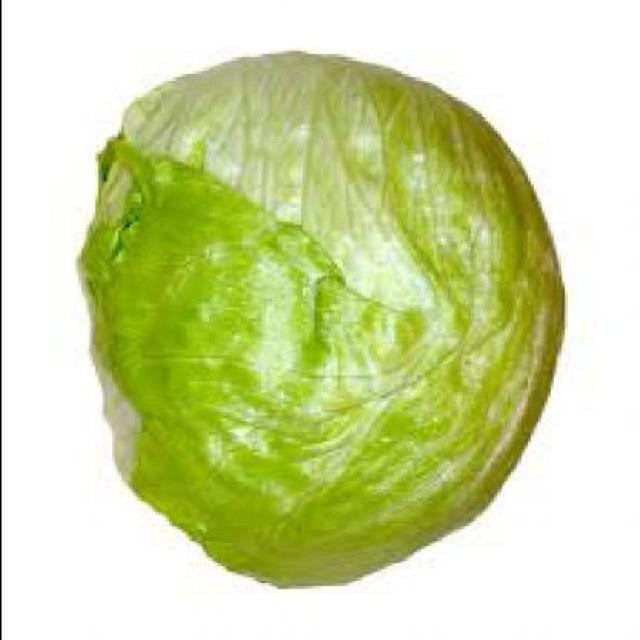BIODEGRADABLE: (75, 52, 566, 585)
